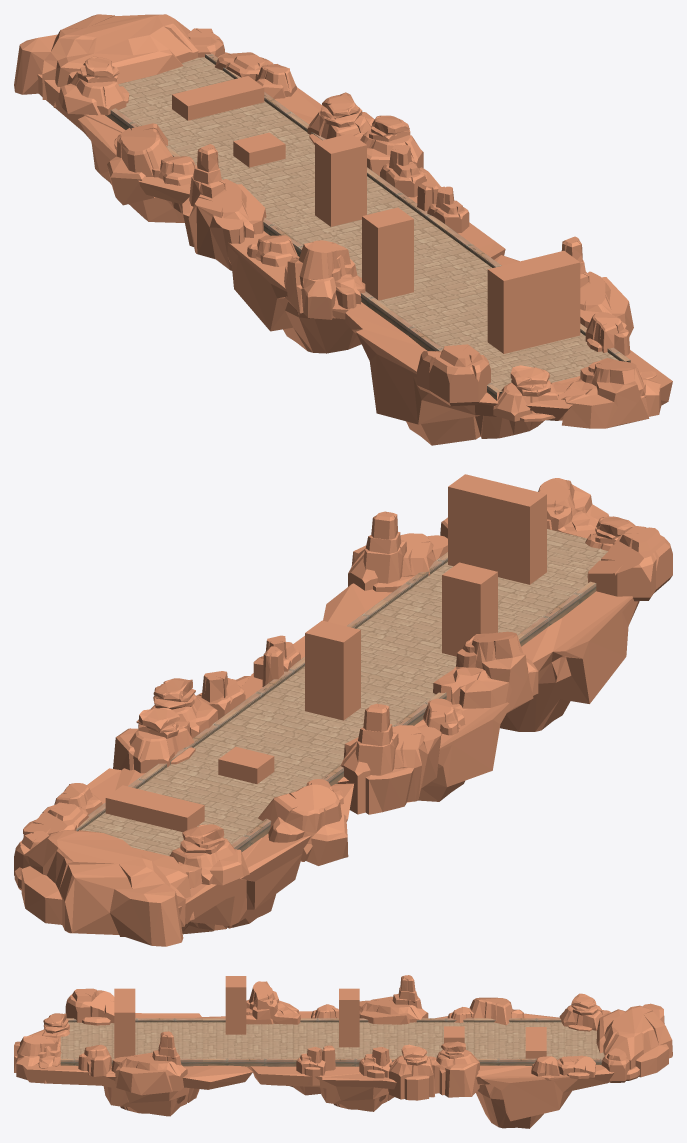
File: road_5_block_B.fbx
3 views of the same model, one above another, from view 1: azimuth 30°, elevation 25°; view 2: azimuth 150°, elevation 25°; view 3: azimuth 270°, elevation 25° (orthographic). The views are drawn at different scales.
Visible parts, largest first — view 1: road_5_block_B_standie, road_5_block_B, lane_run_obstacle_dummy_2, run_obstacle_dummy_2, run_obstacle_dummy_1, lane_jump_obstacle_dummy_1, jump_obstacle_dummy_1; view 2: road_5_block_B_standie, road_5_block_B, lane_run_obstacle_dummy_2, run_obstacle_dummy_2, run_obstacle_dummy_1, lane_jump_obstacle_dummy_1, jump_obstacle_dummy_1; view 3: road_5_block_B_standie, road_5_block_B, lane_run_obstacle_dummy_2, run_obstacle_dummy_1, run_obstacle_dummy_2, lane_jump_obstacle_dummy_1, jump_obstacle_dummy_1.
Boxes of the visible parts, box(x1,y1,x2,y2) form: road_5_block_B_standie: box(14, 14, 672, 445); road_5_block_B: box(105, 53, 630, 400); lane_run_obstacle_dummy_2: box(487, 250, 580, 353); run_obstacle_dummy_2: box(315, 133, 366, 226); run_obstacle_dummy_1: box(362, 207, 413, 300); lane_jump_obstacle_dummy_1: box(172, 76, 264, 120); jump_obstacle_dummy_1: box(233, 132, 285, 167); road_5_block_B_standie: box(14, 478, 672, 946); road_5_block_B: box(76, 529, 607, 888); lane_run_obstacle_dummy_2: box(448, 474, 546, 584); run_obstacle_dummy_2: box(305, 620, 360, 720); run_obstacle_dummy_1: box(442, 562, 497, 656); lane_jump_obstacle_dummy_1: box(105, 785, 204, 832); jump_obstacle_dummy_1: box(218, 746, 274, 783); road_5_block_B_standie: box(14, 975, 672, 1128); road_5_block_B: box(60, 1018, 604, 1066); lane_run_obstacle_dummy_2: box(114, 988, 135, 1058); run_obstacle_dummy_1: box(225, 976, 246, 1034); run_obstacle_dummy_2: box(339, 988, 359, 1047); lane_jump_obstacle_dummy_1: box(525, 1027, 546, 1058); jump_obstacle_dummy_1: box(444, 1026, 464, 1043).
Bounding box in the file's own units: 1791 × 1202 × 6339.
